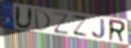D: (33, 8, 52, 32)
J: (90, 18, 108, 40)
R: (108, 18, 127, 44)
U: (14, 5, 35, 30)
Z: (52, 11, 70, 36), (71, 14, 89, 38)
